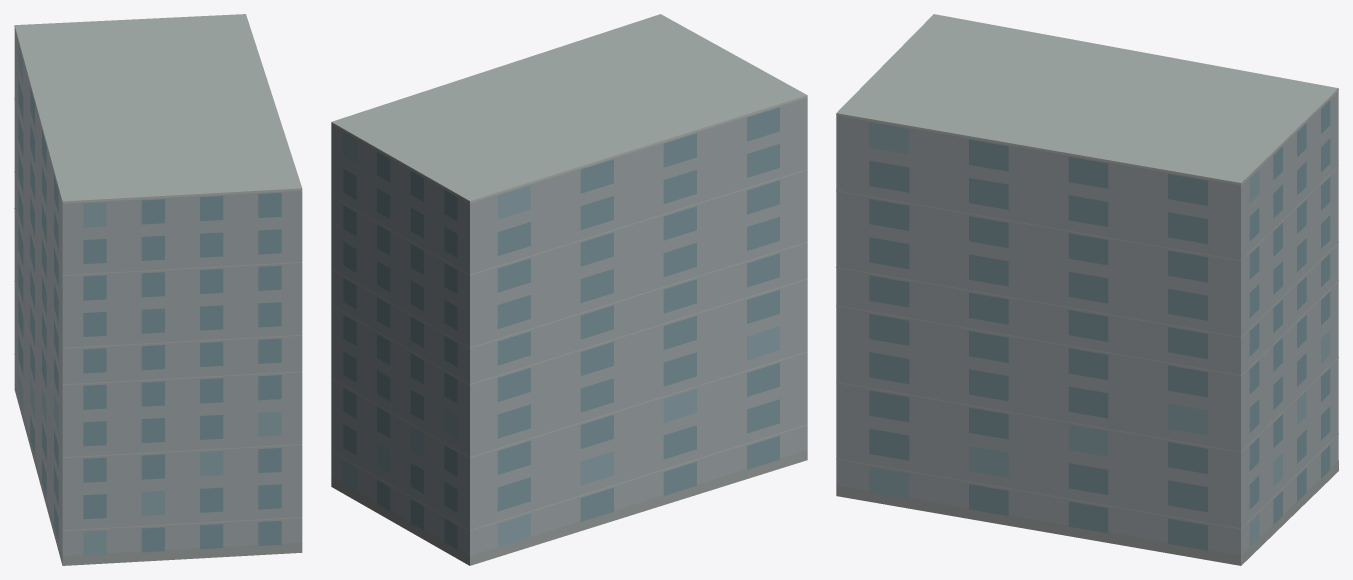
Rendered from residential-262198ce-96d9-4b02-b80f-4b1cbf016d93.glb.
3 renders of one model, left to right at view 1: azimuth 30°, elevation 25°; view 2: azimuth 150°, elevation 25°; view 3: azimuth 270°, elevation 25°, orthographic. The views are drawn at different scales.
Parts seen in each view (by area): view 1: residential-262198ce-96d9-4b02-b80f-4b1cbf016d93.tmp; view 2: residential-262198ce-96d9-4b02-b80f-4b1cbf016d93.tmp; view 3: residential-262198ce-96d9-4b02-b80f-4b1cbf016d93.tmp.
Boxes of the visible parts, bbox=[...] form: residential-262198ce-96d9-4b02-b80f-4b1cbf016d93.tmp: bbox=[14, 14, 302, 565]; residential-262198ce-96d9-4b02-b80f-4b1cbf016d93.tmp: bbox=[331, 14, 807, 565]; residential-262198ce-96d9-4b02-b80f-4b1cbf016d93.tmp: bbox=[836, 14, 1338, 565].
Size of the model in its own units: 38.84 by 41 by 48.79.
